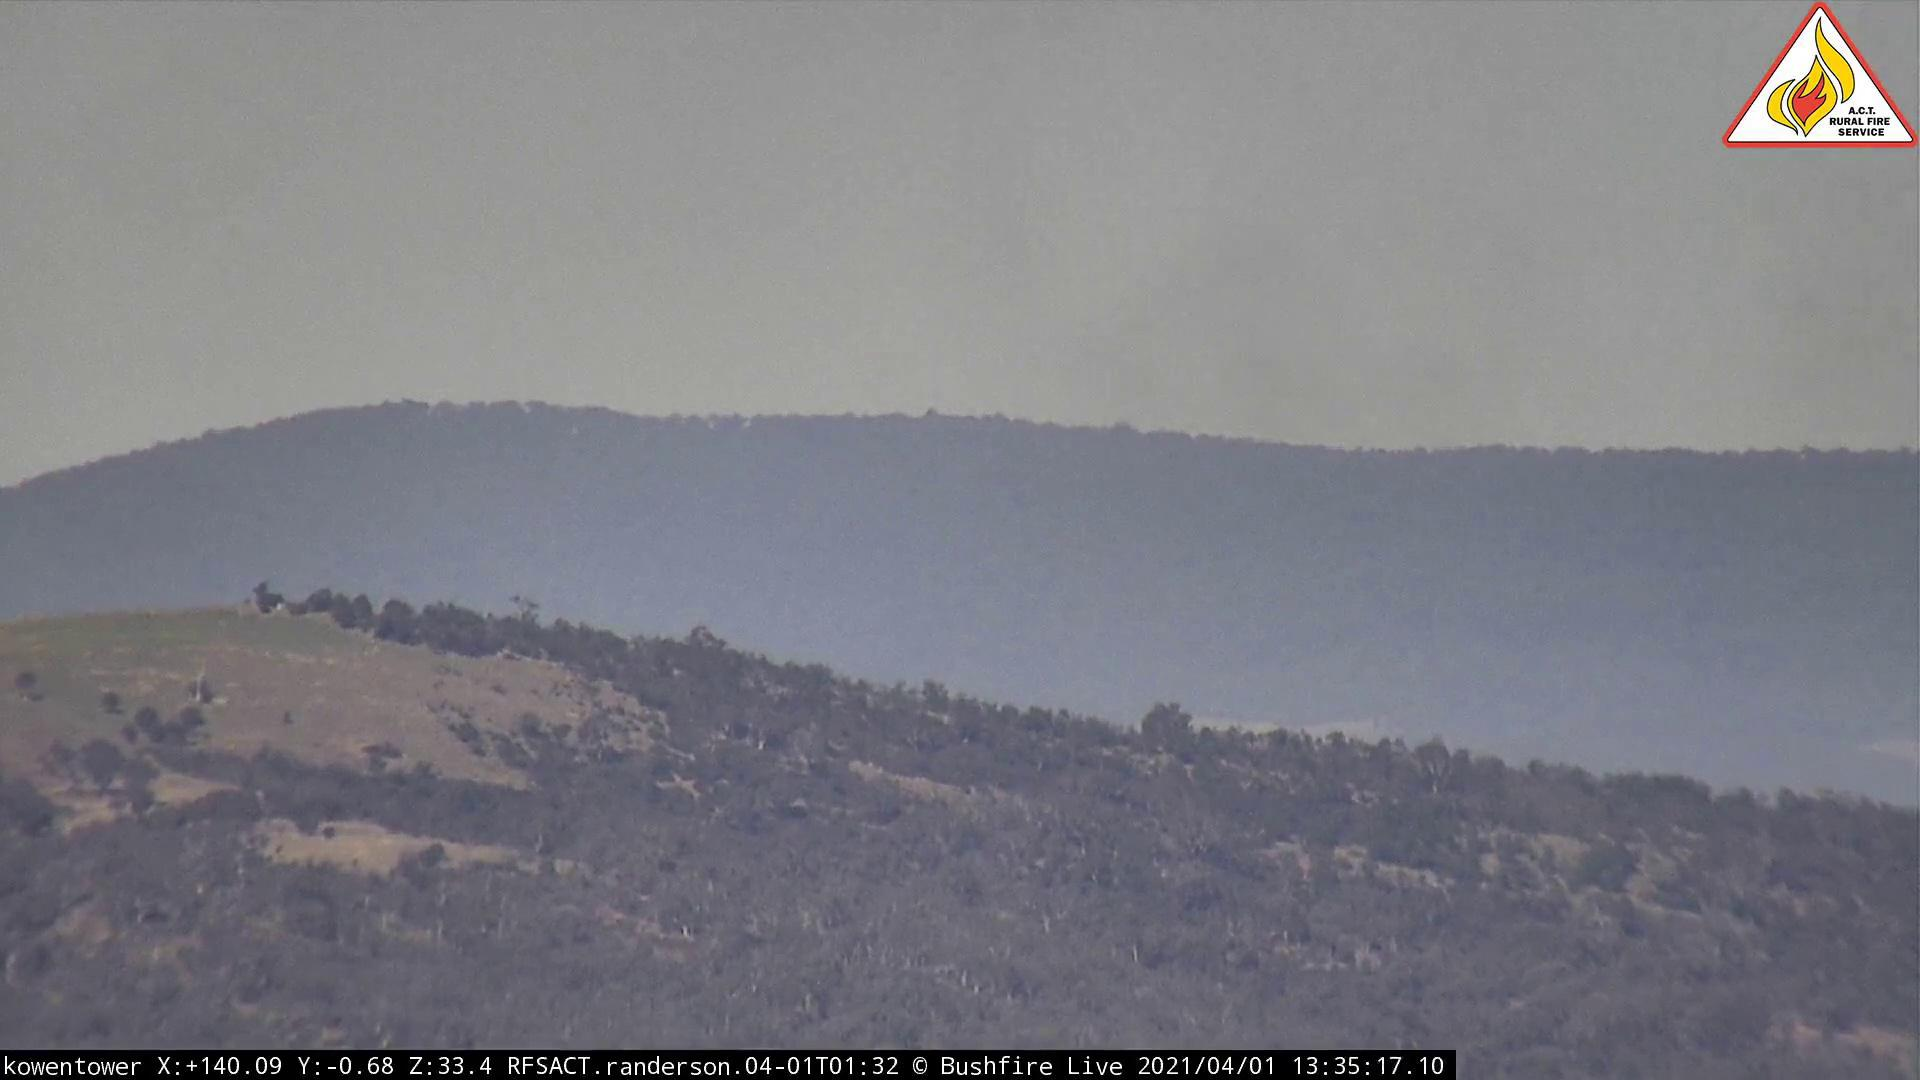Smoke: (963, 169, 1476, 473)
